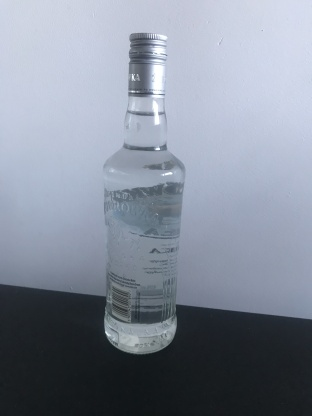nakretka: (127, 28, 168, 98)
